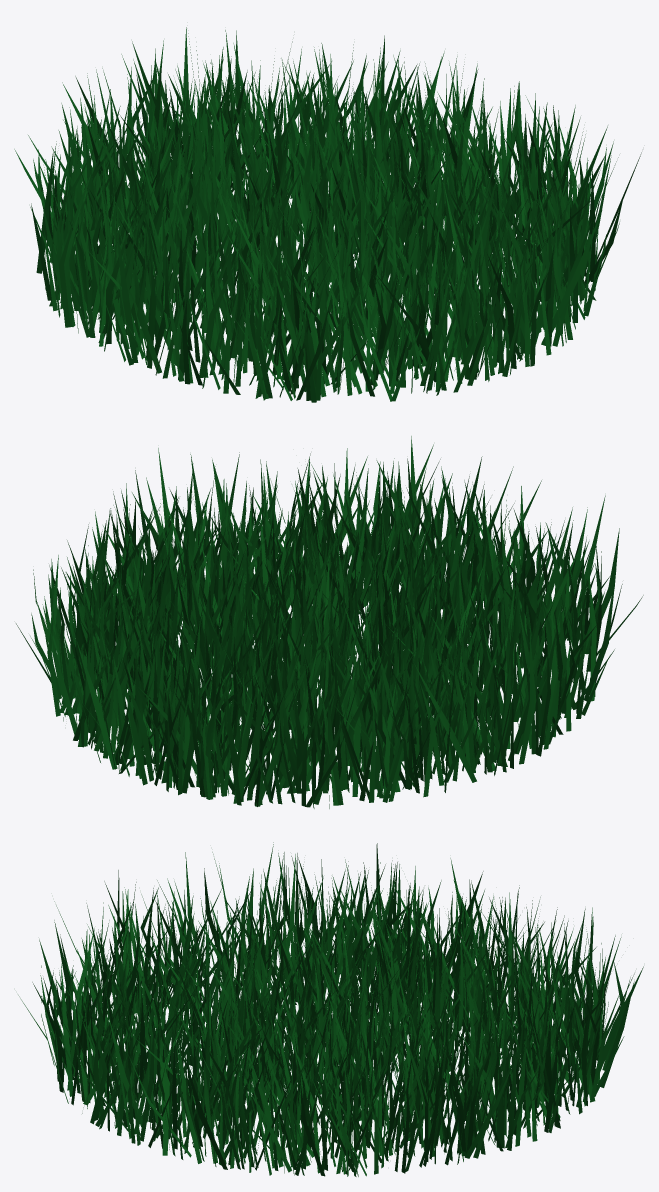
Rendered from grass_round.FBX.
The picture shows the model from 3 angles, top to bottom: view 1: azimuth 30°, elevation 25°; view 2: azimuth 150°, elevation 25°; view 3: azimuth 270°, elevation 25°; orthographic projection. The views are drawn at different scales.
Visible parts, largest first — view 1: default001; view 2: default001; view 3: default001.
Boxes of the visible parts, x1,y1,x2,y2 form: default001: [14, 27, 641, 402]; default001: [16, 436, 643, 808]; default001: [18, 842, 643, 1176].
Size of the model in its own units: 1.33 by 0.3435 by 1.53.
